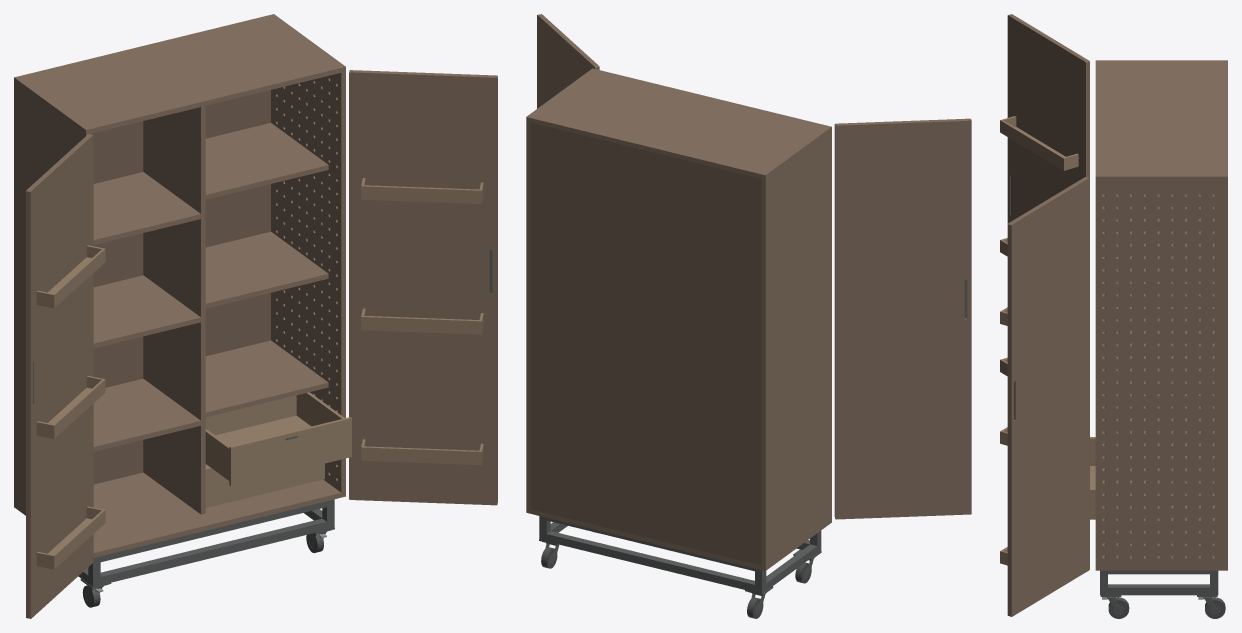
The model's file is open.glb.
The picture shows the model from 3 angles, left to right: view 1: azimuth 30°, elevation 25°; view 2: azimuth 150°, elevation 25°; view 3: azimuth 270°, elevation 25°; orthographic projection. The views are drawn at different scales.
Visible parts, largest first — view 1: B31-door, B30-door, B01-top, B03-right-pegboard, B05-divider, B04-back, B00-bottom, B02-left-side, B20-right-shelf, B21-right-shelf, B22-right-shelf, B11-left-shelf (+16 smaller); view 2: B04-back, B30-door, B02-left-side, B01-top, B31-door, A0-width-1, B03-right-pegboard, B00-bottom, A0-depth-0, A1-width-1; view 3: B03-right-pegboard, B31-door, B01-top, B30-door, A0-depth-1, T02-lip, B00-bottom, A1-depth-1, T02-bottom.
Boxes of the visible parts, box(x1,y1,x2,y2) form: B31-door: box(349, 70, 497, 505); B30-door: box(26, 134, 93, 618); B01-top: box(14, 14, 345, 134); B03-right-pegboard: box(271, 71, 345, 492); B05-divider: box(143, 106, 205, 514); B04-back: box(91, 90, 270, 484); B00-bottom: box(14, 472, 345, 557); B02-left-side: box(14, 82, 90, 510); B20-right-shelf: box(205, 340, 328, 417); B21-right-shelf: box(205, 231, 328, 308); B22-right-shelf: box(205, 123, 328, 199); B11-left-shelf: box(93, 275, 200, 348); B04-back: box(530, 122, 761, 565); B30-door: box(834, 118, 971, 519); B02-left-side: box(761, 131, 831, 566); B01-top: box(526, 68, 831, 179); B31-door: box(537, 14, 599, 108); A0-width-1: box(546, 531, 754, 592); B03-right-pegboard: box(526, 121, 530, 509); B00-bottom: box(526, 508, 831, 570); A0-depth-0: box(755, 543, 821, 593); A1-width-1: box(546, 518, 754, 571); B03-right-pegboard: box(1095, 181, 1227, 566); B31-door: box(1007, 177, 1089, 616); B01-top: box(1095, 60, 1227, 180); B30-door: box(1007, 14, 1089, 223); A0-depth-1: box(1100, 584, 1218, 595); T02-lip: box(1000, 120, 1065, 168); B00-bottom: box(1095, 530, 1227, 570); A1-depth-1: box(1100, 570, 1218, 574); T02-bottom: box(1000, 127, 1078, 170).
Bounding box in the file's own units: 1.82 × 1.8 × 0.8272.
